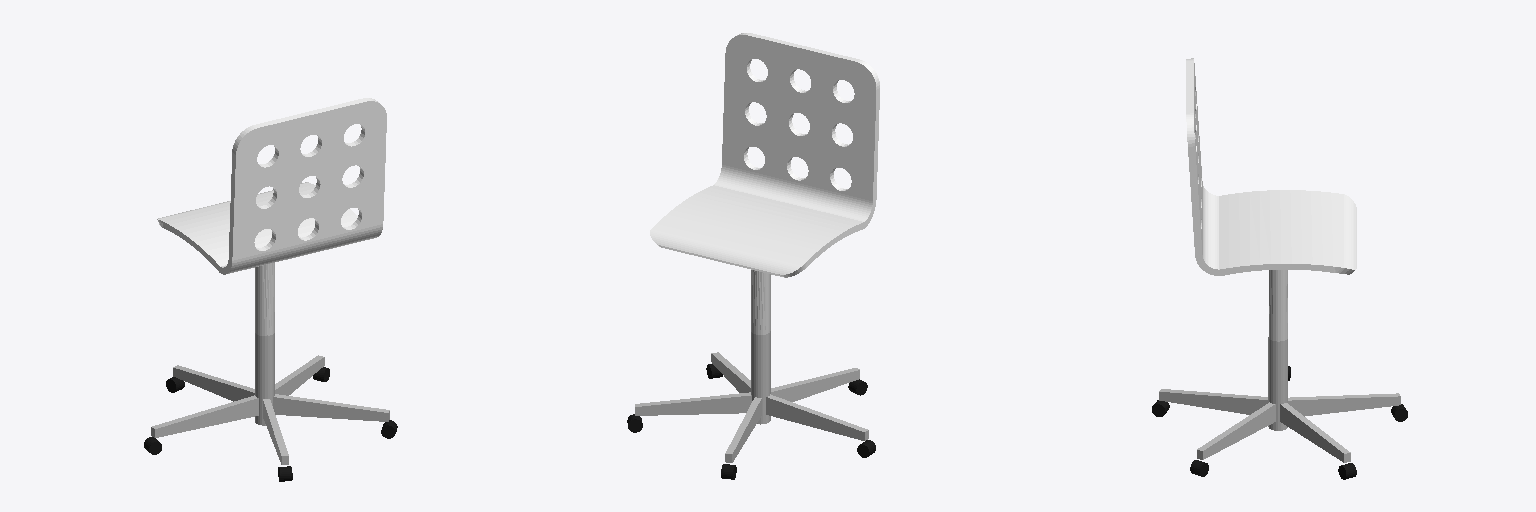
The picture shows the model from 3 angles: view 1: azimuth 30°, elevation 25°; view 2: azimuth 150°, elevation 25°; view 3: azimuth 270°, elevation 25°; orthographic projection.
Parts seen in each view (by area): view 1: Mesh1 Group2 Group1 Model, Mesh12 Group3 ske3F1 Group1 Model, Mesh5 Group5 Group3 ske3F1 Group1 Model, Mesh7 Group6 Group3 ske3F1 Group1 Model, Mesh3 Group4 Group3 ske3F1 Group1 Model, Mesh11 Group8 Group3 ske3F1 Group1 Model, Mesh9 Group7 Group3 ske3F1 Group1 Model; view 2: Mesh1 Group2 Group1 Model, Mesh12 Group3 ske3F1 Group1 Model, Mesh11 Group8 Group3 ske3F1 Group1 Model, Mesh7 Group6 Group3 ske3F1 Group1 Model, Mesh9 Group7 Group3 ske3F1 Group1 Model, Mesh3 Group4 Group3 ske3F1 Group1 Model, Mesh5 Group5 Group3 ske3F1 Group1 Model; view 3: Mesh1 Group2 Group1 Model, Mesh12 Group3 ske3F1 Group1 Model, Mesh3 Group4 Group3 ske3F1 Group1 Model, Mesh9 Group7 Group3 ske3F1 Group1 Model, Mesh5 Group5 Group3 ske3F1 Group1 Model, Mesh11 Group8 Group3 ske3F1 Group1 Model.
Boxes of the visible parts, <box> form: Mesh1 Group2 Group1 Model: <box>157,98,386,274</box>; Mesh12 Group3 ske3F1 Group1 Model: <box>255,263,274,425</box>; Mesh5 Group5 Group3 ske3F1 Group1 Model: <box>273,394,389,421</box>; Mesh7 Group6 Group3 ske3F1 Group1 Model: <box>151,395,258,437</box>; Mesh3 Group4 Group3 ske3F1 Group1 Model: <box>173,365,254,401</box>; Mesh11 Group8 Group3 ske3F1 Group1 Model: <box>275,355,324,395</box>; Mesh9 Group7 Group3 ske3F1 Group1 Model: <box>263,399,288,464</box>; Mesh1 Group2 Group1 Model: <box>650,33,879,277</box>; Mesh12 Group3 ske3F1 Group1 Model: <box>751,270,770,424</box>; Mesh11 Group8 Group3 ske3F1 Group1 Model: <box>635,392,751,415</box>; Mesh7 Group6 Group3 ske3F1 Group1 Model: <box>766,394,868,440</box>; Mesh9 Group7 Group3 ske3F1 Group1 Model: <box>771,368,859,401</box>; Mesh3 Group4 Group3 ske3F1 Group1 Model: <box>725,397,761,462</box>; Mesh5 Group5 Group3 ske3F1 Group1 Model: <box>711,352,750,392</box>; Mesh1 Group2 Group1 Model: <box>1186,58,1356,275</box>; Mesh12 Group3 ske3F1 Group1 Model: <box>1268,270,1287,430</box>; Mesh3 Group4 Group3 ske3F1 Group1 Model: <box>1288,393,1400,416</box>; Mesh9 Group7 Group3 ske3F1 Group1 Model: <box>1159,389,1268,414</box>; Mesh5 Group5 Group3 ske3F1 Group1 Model: <box>1197,402,1275,459</box>; Mesh11 Group8 Group3 ske3F1 Group1 Model: <box>1280,403,1350,462</box>.
Size of the model in its own units: 0.5315 by 0.8208 by 0.5506.